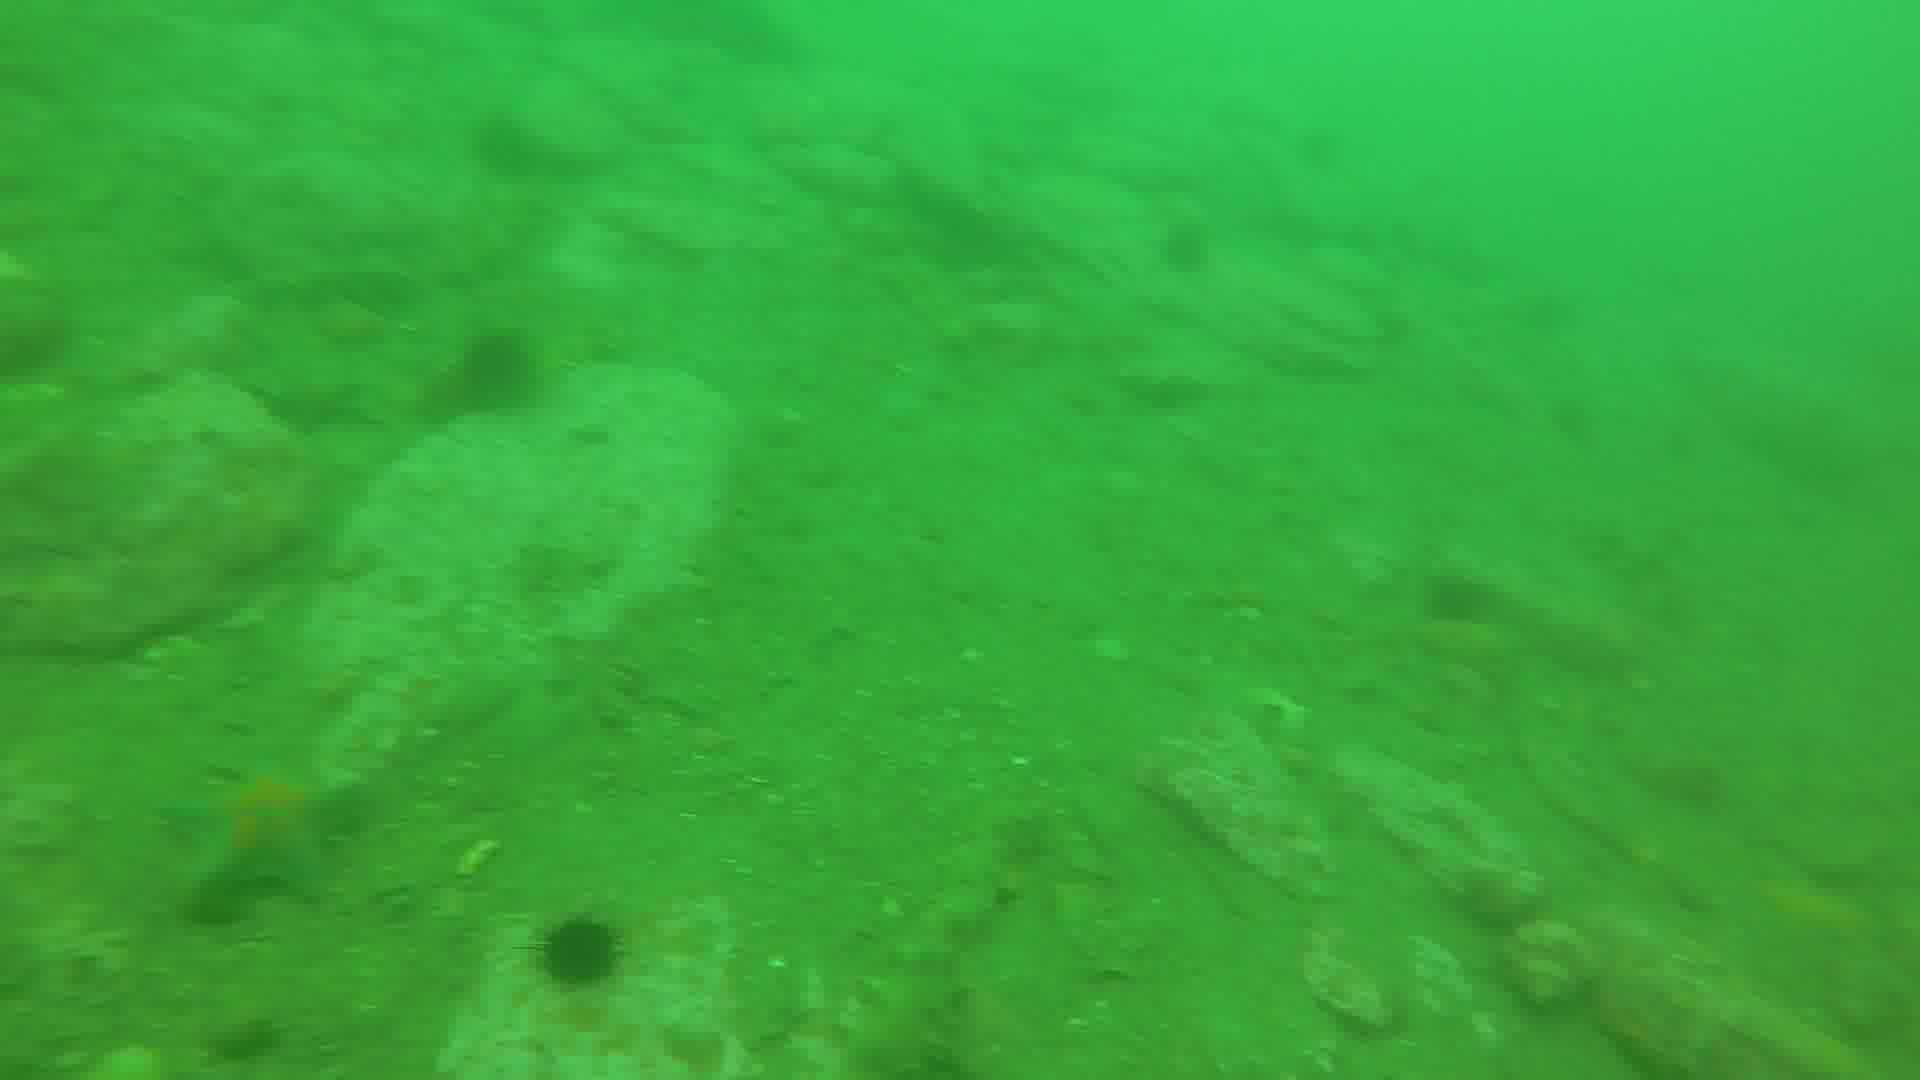echinus: (452, 331, 543, 407), (539, 916, 621, 978), (465, 111, 535, 171), (1154, 220, 1215, 284), (1429, 572, 1480, 636)
holothurian: (837, 926, 972, 1080)
starfish: (162, 765, 367, 905), (244, 359, 385, 436)
